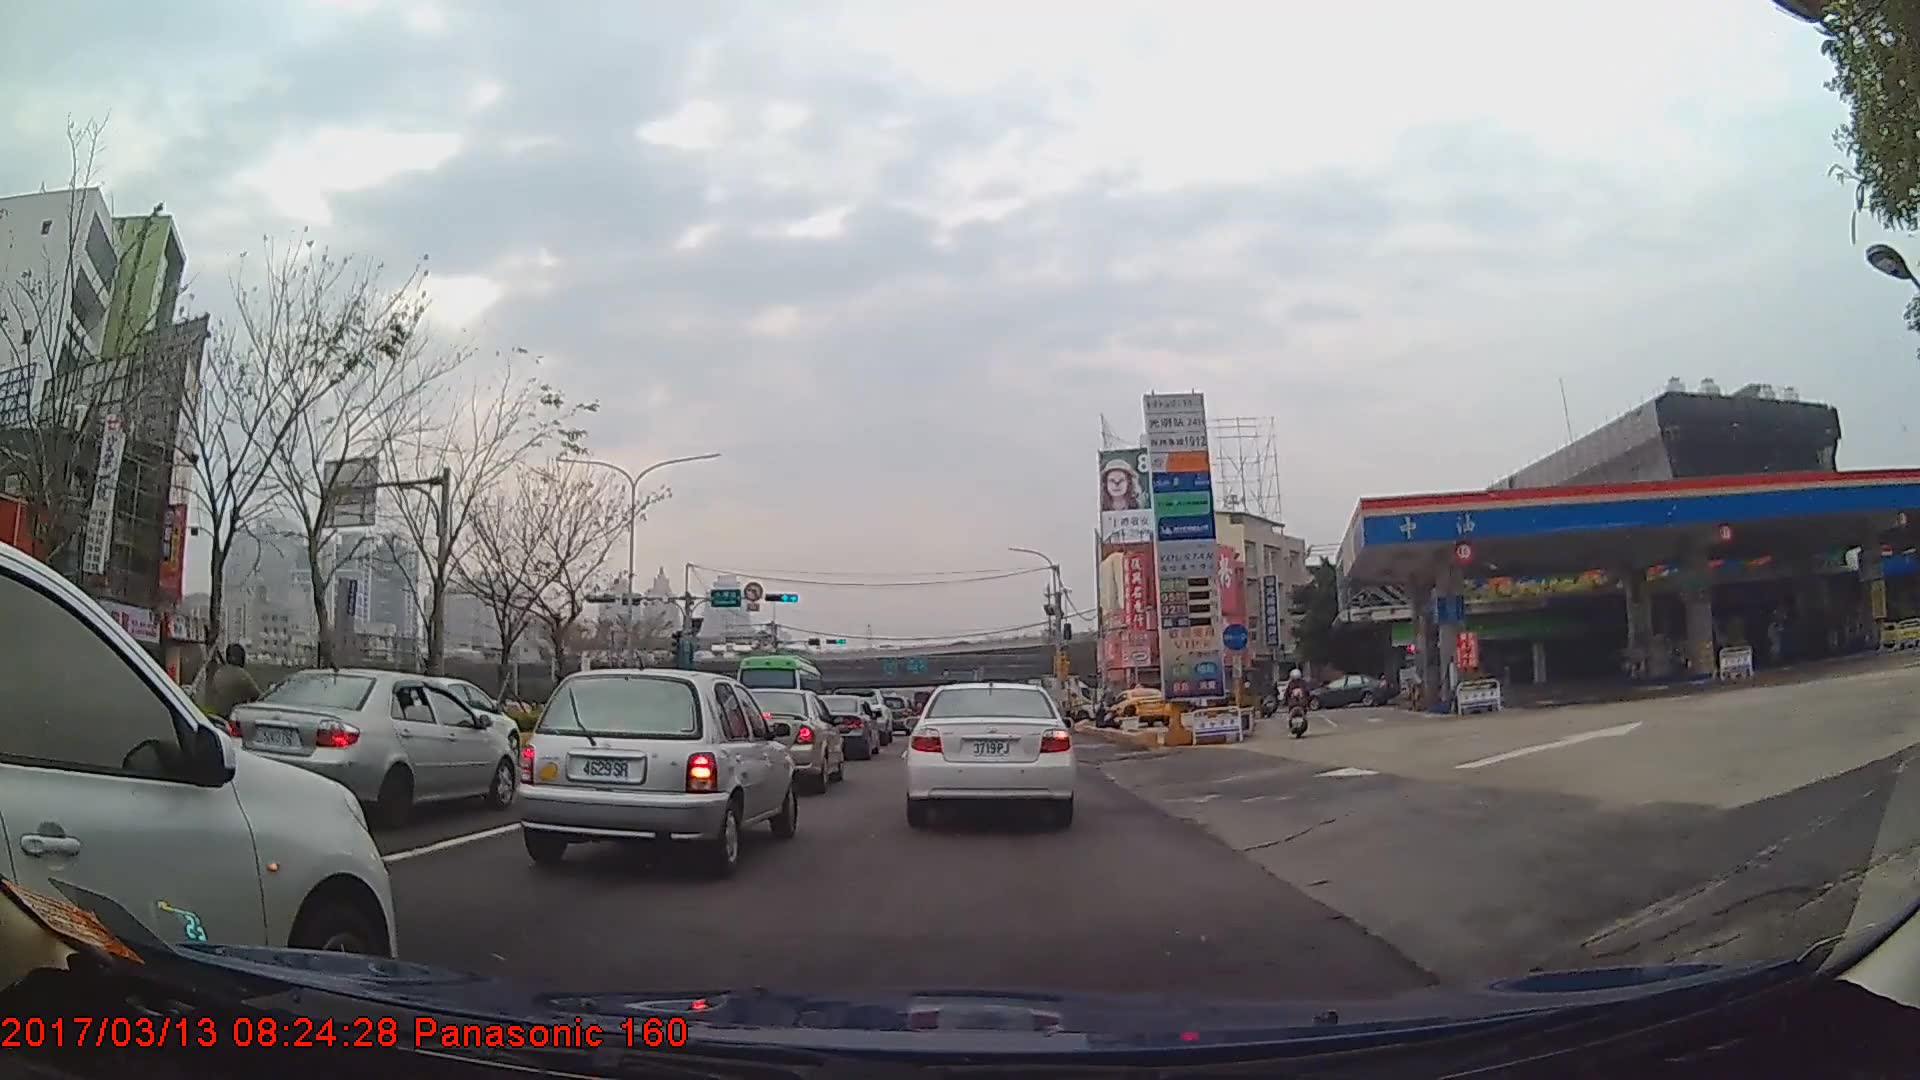rider: (204, 639, 271, 775), (1286, 669, 1308, 736)
vehicle: (0, 538, 392, 1010), (514, 667, 798, 878), (224, 667, 513, 819), (904, 678, 1076, 828), (714, 685, 844, 797), (730, 651, 824, 726), (800, 693, 880, 758), (1010, 680, 1097, 730), (1299, 670, 1395, 708), (1112, 686, 1171, 726)
